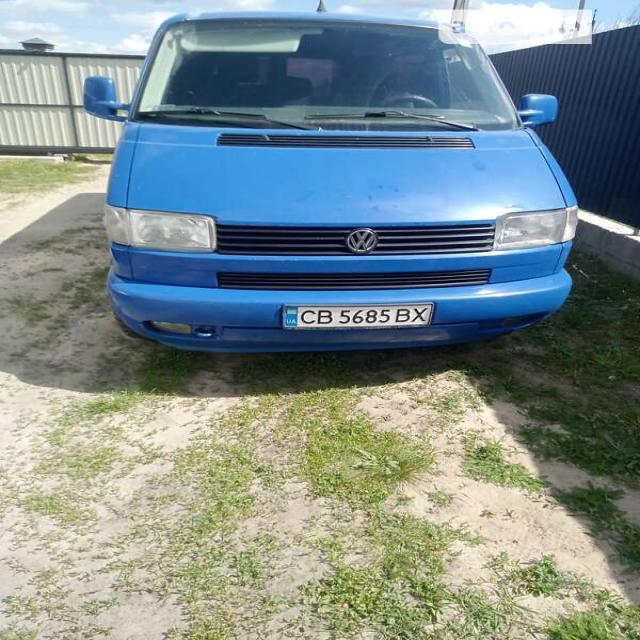plate: (277, 298, 447, 338)
